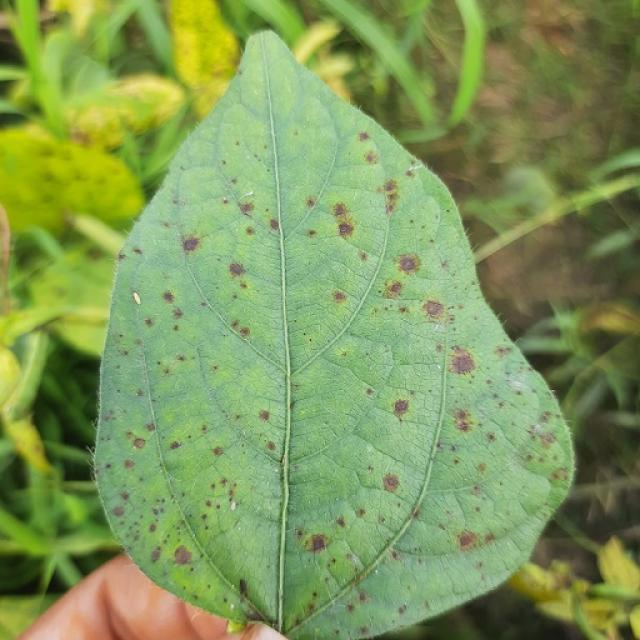Anthracnose: (382, 393, 422, 433), (420, 291, 456, 328), (450, 341, 482, 377), (178, 235, 208, 259), (382, 179, 400, 213), (451, 409, 474, 433), (172, 545, 192, 565), (308, 534, 328, 552), (398, 255, 418, 272), (458, 531, 476, 549), (382, 473, 399, 492), (228, 261, 245, 277), (238, 201, 255, 217), (494, 344, 513, 358), (551, 468, 568, 482), (338, 222, 353, 237), (333, 202, 348, 217), (541, 432, 556, 446), (364, 150, 378, 164), (332, 290, 347, 303), (388, 282, 402, 295), (150, 547, 161, 563), (132, 437, 146, 449), (410, 505, 421, 520), (162, 291, 175, 303), (171, 307, 184, 319), (111, 505, 124, 517), (239, 578, 248, 595), (305, 196, 316, 209), (258, 410, 270, 421), (212, 446, 223, 457), (269, 219, 279, 231), (358, 132, 370, 142), (123, 459, 135, 469), (336, 516, 346, 528), (358, 591, 368, 603), (144, 317, 155, 327), (170, 440, 181, 450), (145, 422, 156, 432), (486, 432, 496, 443), (359, 626, 370, 636), (346, 603, 355, 614), (240, 327, 249, 337), (267, 441, 276, 451), (477, 463, 486, 473), (398, 605, 407, 615), (132, 247, 142, 255), (135, 389, 144, 397), (222, 197, 228, 204), (308, 338, 312, 343)
Blackgram: (95, 32, 572, 639)
